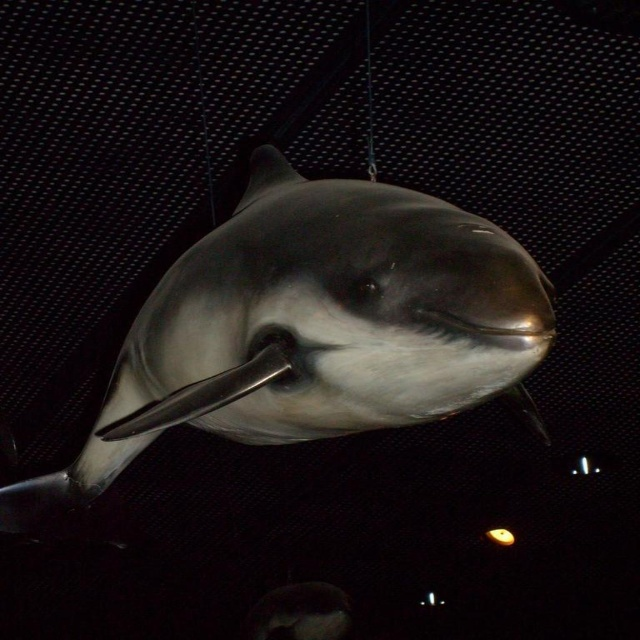Fish: (0, 143, 561, 537), (234, 572, 357, 640)
